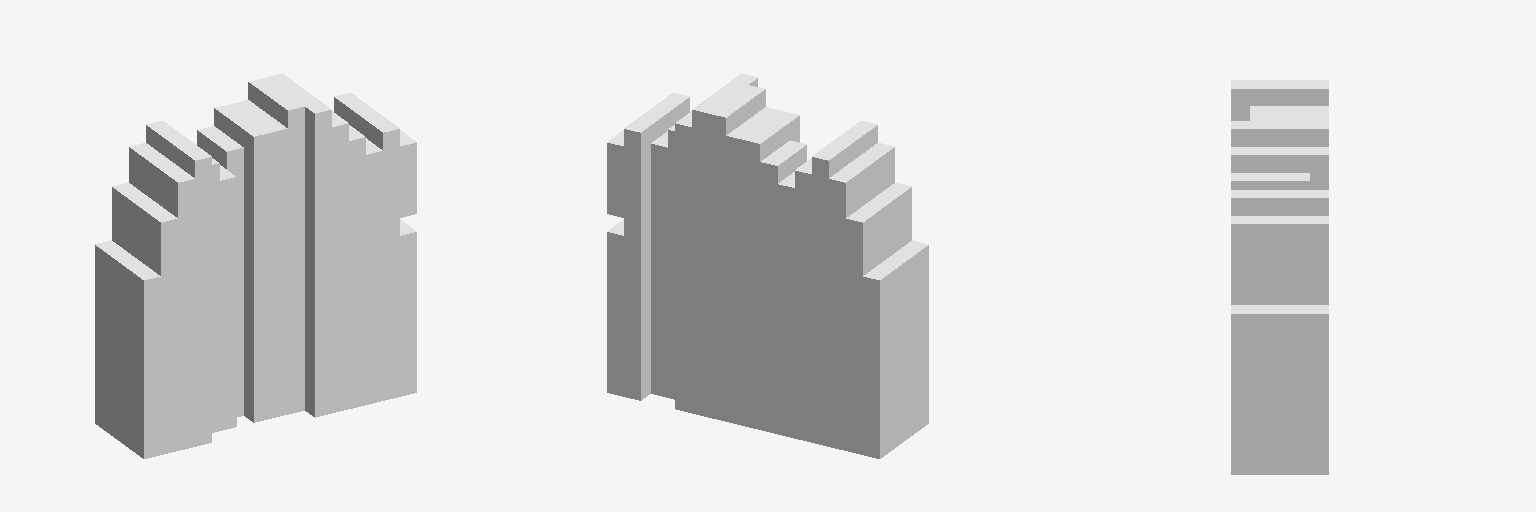
Rendered from hedge01.obj.
3 renders of one model, left to right at view 1: azimuth 30°, elevation 25°; view 2: azimuth 150°, elevation 25°; view 3: azimuth 270°, elevation 25°, orthographic.
Parts seen in each view (by area): view 1: object 1; view 2: object 1; view 3: object 1.
Boxes of the visible parts, x1,y1,x2,y2 form: object 1: [95, 73, 416, 458]; object 1: [607, 73, 928, 458]; object 1: [1231, 80, 1328, 474].
Bounding box in the file's own units: 1.6 × 1.7 × 0.5.